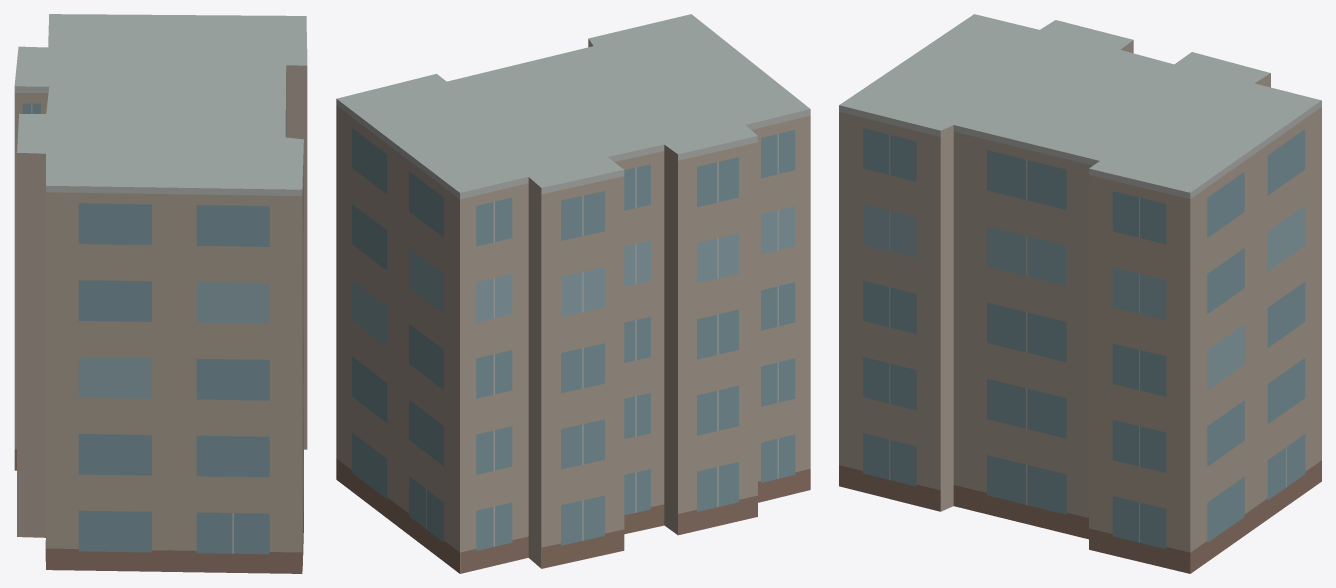
The model's file is survey-upis-33019905.glb.
3 views of the same model, side by side, from view 1: azimuth 30°, elevation 25°; view 2: azimuth 150°, elevation 25°; view 3: azimuth 270°, elevation 25° (orthographic).
Parts seen in each view (by area): view 1: survey-upis-33019905.tmp; view 2: survey-upis-33019905.tmp; view 3: survey-upis-33019905.tmp.
Boxes of the visible parts, box(x1,y1,x2,y2) form: survey-upis-33019905.tmp: box(14, 14, 307, 573); survey-upis-33019905.tmp: box(336, 14, 810, 573); survey-upis-33019905.tmp: box(839, 14, 1321, 573).
Size of the model in its own units: 14.52 by 14.43 by 16.57.
